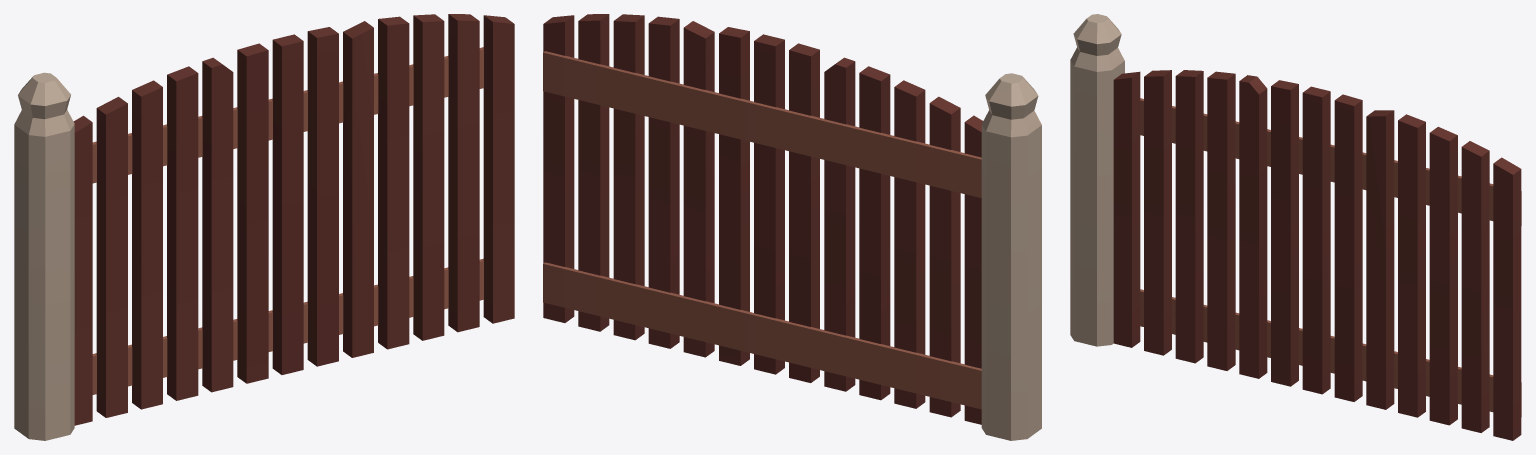
The model's file is Zabor2.fbx.
The picture shows the model from 3 angles, left to right: view 1: azimuth 30°, elevation 25°; view 2: azimuth 150°, elevation 25°; view 3: azimuth 330°, elevation 25°; orthographic projection. The views are drawn at different scales.
Parts seen in each view (by area): view 1: Cube.006; view 2: Cube.006; view 3: Cube.006.
Part boxes in pixels (x1=…): Cube.006: x1=14, y1=14, x2=514, y2=440; Cube.006: x1=543, y1=14, x2=1041, y2=440; Cube.006: x1=1070, y1=14, x2=1521, y2=440.
Bounding box in the file's own units: 173 × 119 × 16.34.
